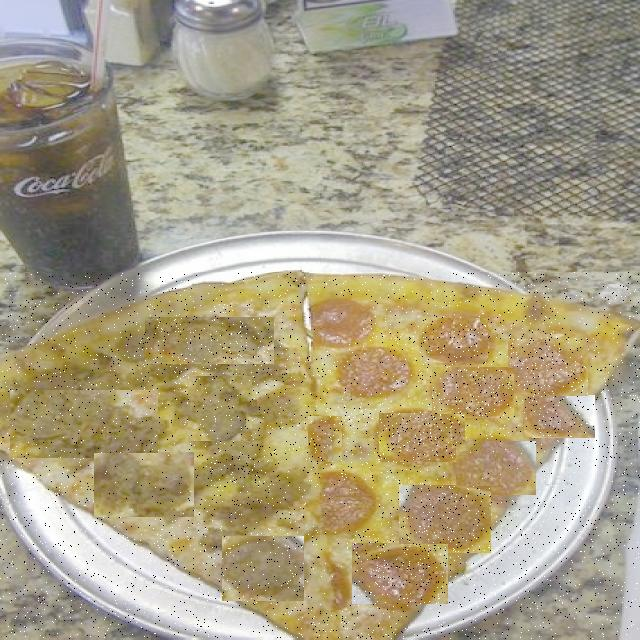Beef: (10, 391, 158, 458), (94, 453, 194, 517), (146, 318, 276, 364), (222, 537, 304, 601), (188, 377, 252, 441), (206, 449, 278, 487)
Pepperoni: (399, 486, 491, 553), (352, 544, 448, 604), (326, 342, 410, 404), (508, 335, 588, 397), (456, 442, 536, 495), (379, 414, 465, 462), (432, 368, 514, 418), (298, 295, 368, 350), (308, 482, 378, 530), (524, 396, 595, 438), (422, 319, 488, 363), (326, 548, 354, 610), (308, 417, 342, 462)
Pizza: (0, 273, 640, 639)
